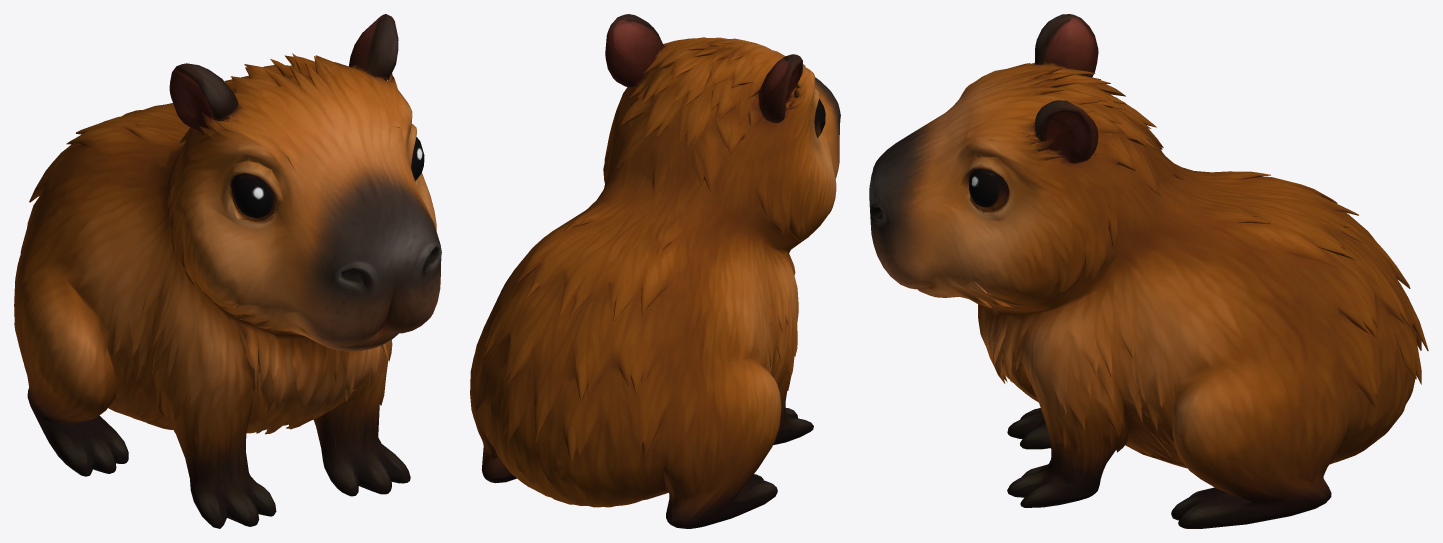
File: obj_capybara.glb
3 views of the same model, side by side, from view 1: azimuth 30°, elevation 25°; view 2: azimuth 150°, elevation 25°; view 3: azimuth 270°, elevation 25° (orthographic). The views are drawn at different scales.
Parts seen in each view (by area): view 1: Mesh_0; view 2: Mesh_0; view 3: Mesh_0.
Boxes of the visible parts, bbox=[...] form: Mesh_0: bbox=[14, 14, 441, 528]; Mesh_0: bbox=[470, 14, 840, 528]; Mesh_0: bbox=[869, 14, 1428, 528].
Size of the model in its own units: 1.14 by 1.55 by 1.91.
Materials: 1 (1 with a texture image).
